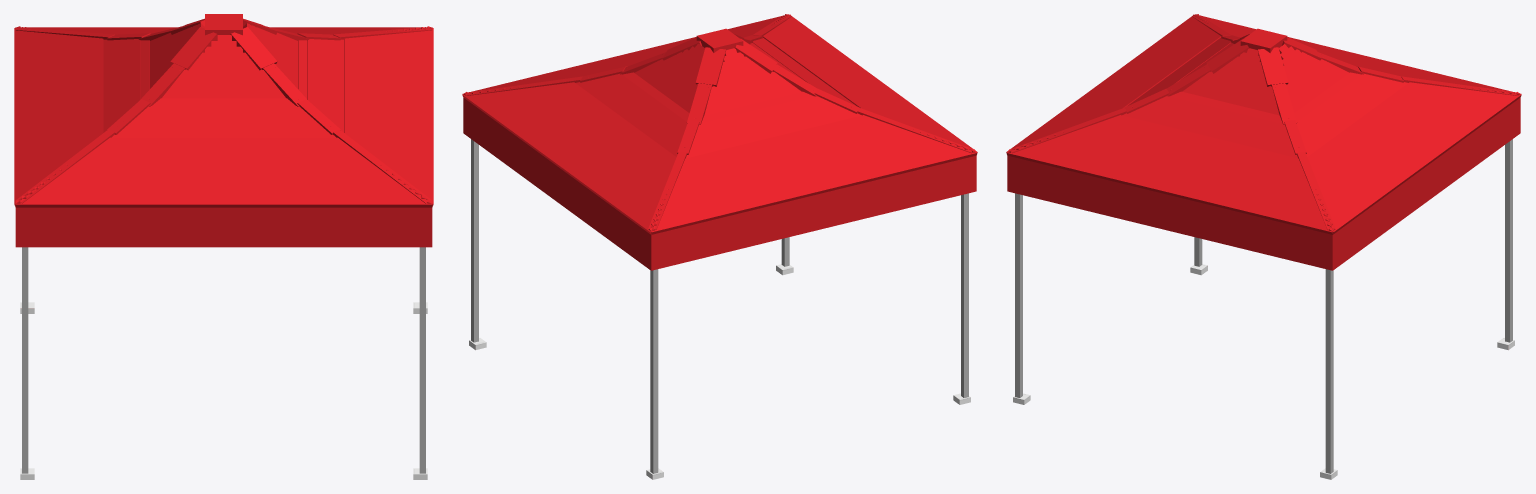
The model's file is tent_red_y60.obj.
3 views of the same model, side by side, from view 1: azimuth 30°, elevation 25°; view 2: azimuth 150°, elevation 25°; view 3: azimuth 270°, elevation 25° (orthographic). The views are drawn at different scales.
Parts seen in each view (by area): view 1: text2, cube1.005, cube2.005, cube3.005, cube4.005, cube5.001, cube6.001, cube7.001, cube8.001, stem1, stem3, cube13.001 (+71 smaller); view 2: text1, text0, cube1.003, stem2, cube1.006, stem1, stem4, cube2.003, cube3.003, cube4.003, cube5, cube6 (+48 smaller); view 3: text3, text0, cube1.004, stem4, cube1.006, stem3, stem2, cube2.004, cube3.004, cube4.004, cube5.000, cube6.000 (+48 smaller).
Part boxes in pixels (left/top/right/bottom): text2: left=15, top=207, right=432, bottom=247; cube1.005: left=15, top=200, right=432, bottom=207; cube2.005: left=22, top=196, right=425, bottom=200; cube3.005: left=28, top=191, right=419, bottom=195; cube4.005: left=34, top=187, right=413, bottom=191; cube5.001: left=41, top=182, right=406, bottom=186; cube6.001: left=47, top=178, right=400, bottom=182; cube7.001: left=53, top=173, right=394, bottom=177; cube8.001: left=60, top=169, right=387, bottom=173; stem1: left=22, top=247, right=28, bottom=473; stem3: left=419, top=247, right=425, bottom=473; cube13.001: left=92, top=146, right=355, bottom=151; text1: left=656, top=157, right=971, bottom=269; text0: left=463, top=98, right=655, bottom=270; cube1.003: left=649, top=149, right=977, bottom=234; stem2: left=650, top=269, right=658, bottom=473; cube1.006: left=462, top=92, right=654, bottom=234; stem1: left=961, top=193, right=968, bottom=397; stem4: left=471, top=139, right=478, bottom=342; cube2.003: left=651, top=146, right=969, bottom=227; cube3.003: left=653, top=144, right=961, bottom=222; cube4.003: left=656, top=141, right=953, bottom=216; cube5: left=658, top=139, right=945, bottom=211; cube6: left=660, top=136, right=937, bottom=206; text3: left=1012, top=157, right=1327, bottom=269; text0: left=1328, top=98, right=1520, bottom=270; cube1.004: left=1006, top=149, right=1334, bottom=234; stem4: left=1325, top=269, right=1333, bottom=473; cube1.006: left=1328, top=92, right=1521, bottom=235; stem3: left=1015, top=193, right=1022, bottom=397; stem2: left=1505, top=139, right=1512, bottom=342; cube2.004: left=1014, top=146, right=1332, bottom=227; cube3.004: left=1022, top=144, right=1330, bottom=222; cube4.004: left=1030, top=141, right=1327, bottom=216; cube5.000: left=1038, top=139, right=1325, bottom=211; cube6.000: left=1046, top=136, right=1323, bottom=206.
Bounding box in the file's own units: 5.09 × 3.66 × 5.09.
